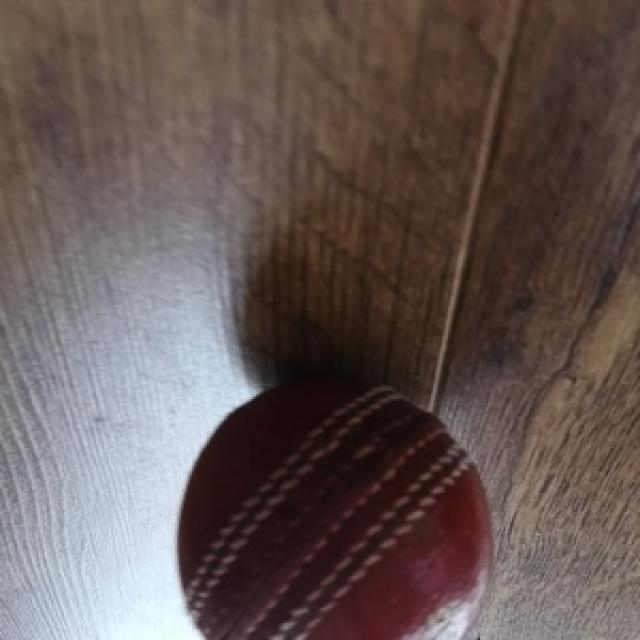ball: (177, 378, 497, 640)
